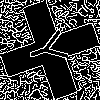Y: (25, 25, 79, 71)
